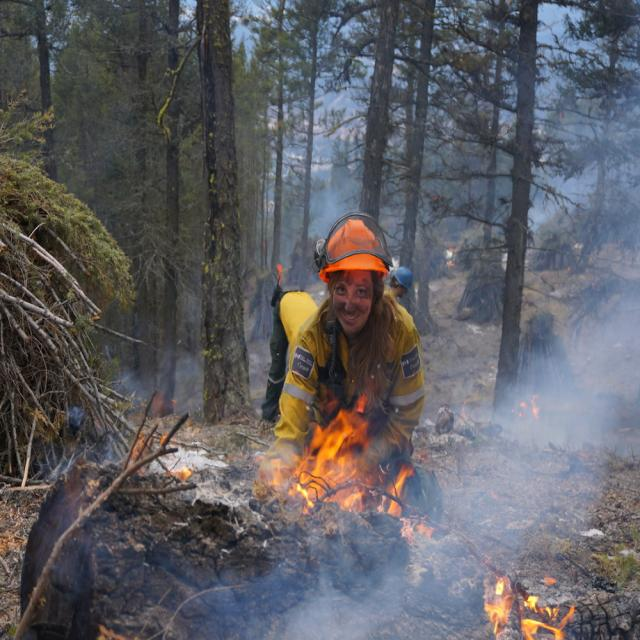Fire: (272, 409, 408, 533)
Smoke: (325, 304, 640, 626)
